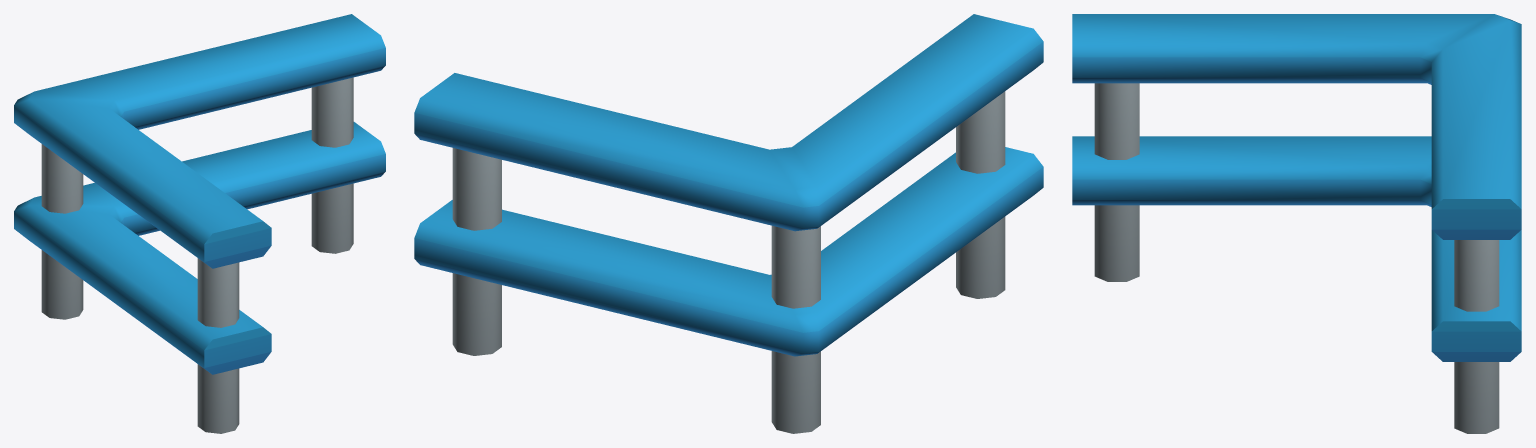
The model's file is railing_corner_double_blue.glb.
The picture shows the model from 3 angles, left to right: view 1: azimuth 30°, elevation 25°; view 2: azimuth 150°, elevation 25°; view 3: azimuth 270°, elevation 25°; orthographic projection. The views are drawn at different scales.
Visible parts, largest first — view 1: railing_corner_double_blue; view 2: railing_corner_double_blue; view 3: railing_corner_double_blue.
Part boxes in pixels (box(x1,y1,x2,y2)): railing_corner_double_blue: box(14, 14, 385, 433); railing_corner_double_blue: box(414, 14, 1043, 433); railing_corner_double_blue: box(1072, 14, 1521, 433).
Bounding box in the file's own units: 2 × 1.2 × 2.
Materials: 1 (1 with a texture image).
